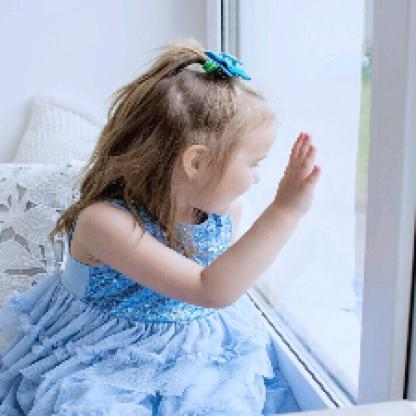child: (1, 38, 324, 415)
